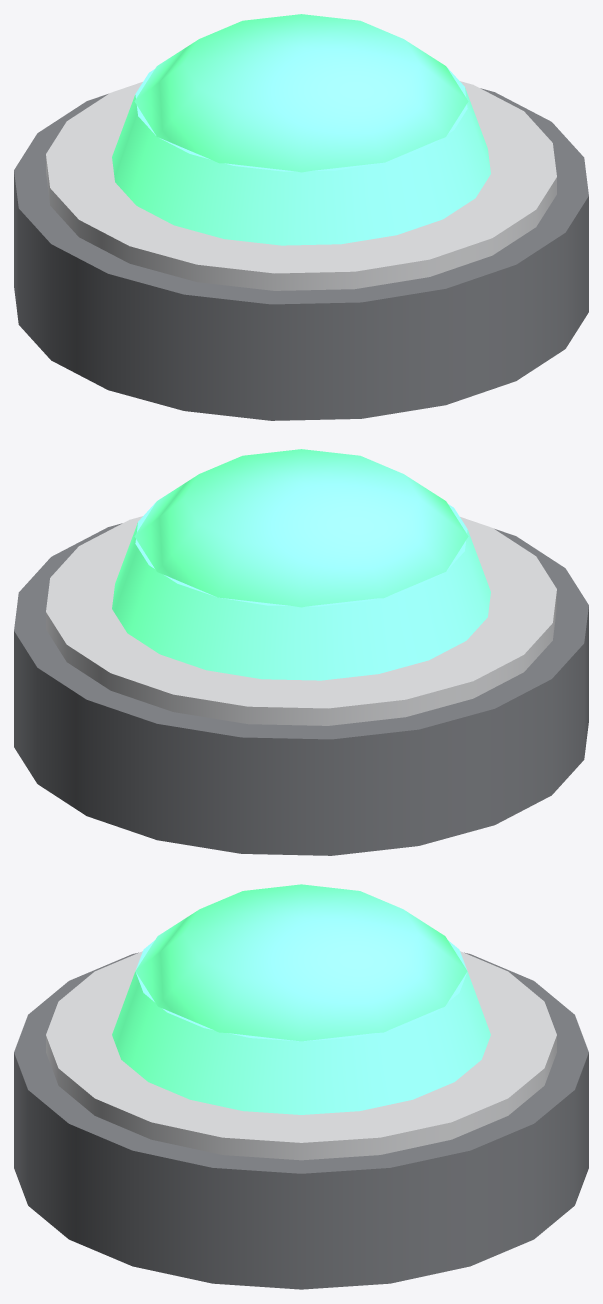
The model's file is btn-accept.glb.
The picture shows the model from 3 angles, top to bottom: view 1: azimuth 30°, elevation 25°; view 2: azimuth 150°, elevation 25°; view 3: azimuth 270°, elevation 25°; orthographic projection.
Parts seen in each view (by area): view 1: base, button; view 2: base, button; view 3: base, button.
Boxes of the visible parts, x1,y1,x2,y2 form: base: (14,81,588,420); button: (112,14,490,245); base: (14,516,588,855); button: (112,449,490,680); base: (14,951,588,1289); button: (112,884,490,1114).
Size of the model in its own units: 0.09 by 0.0431 by 0.09.
